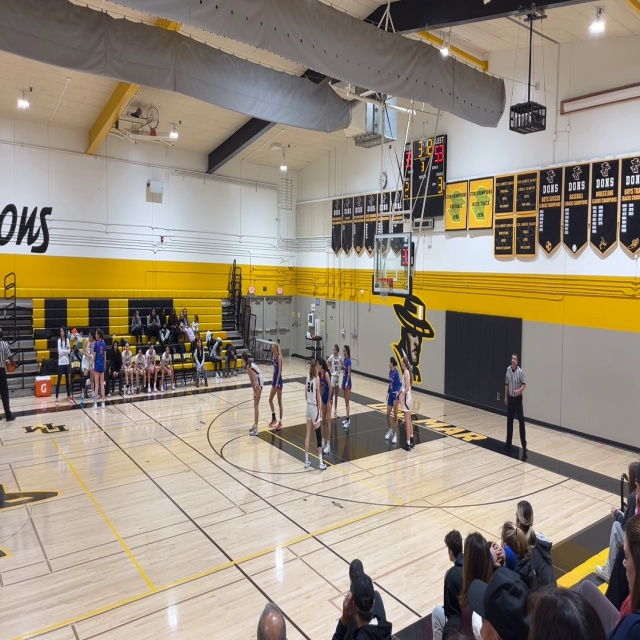Basketball: (5, 360, 15, 372)
